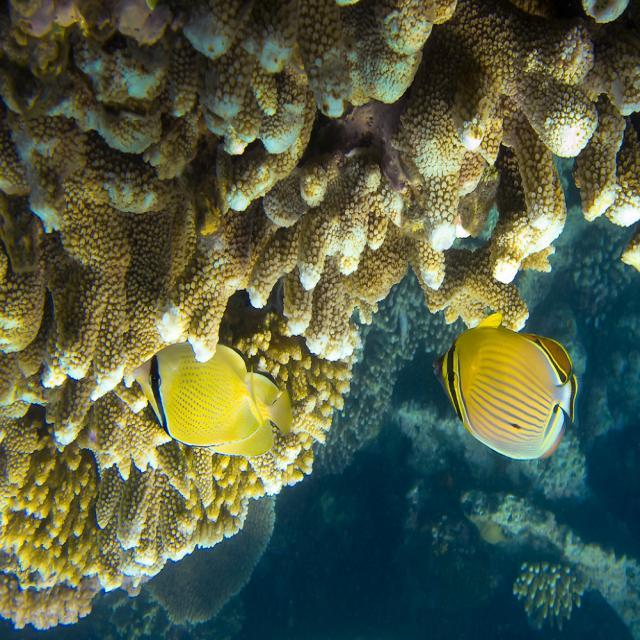ButterflyFish: (418, 316, 594, 456), (136, 334, 297, 482)
